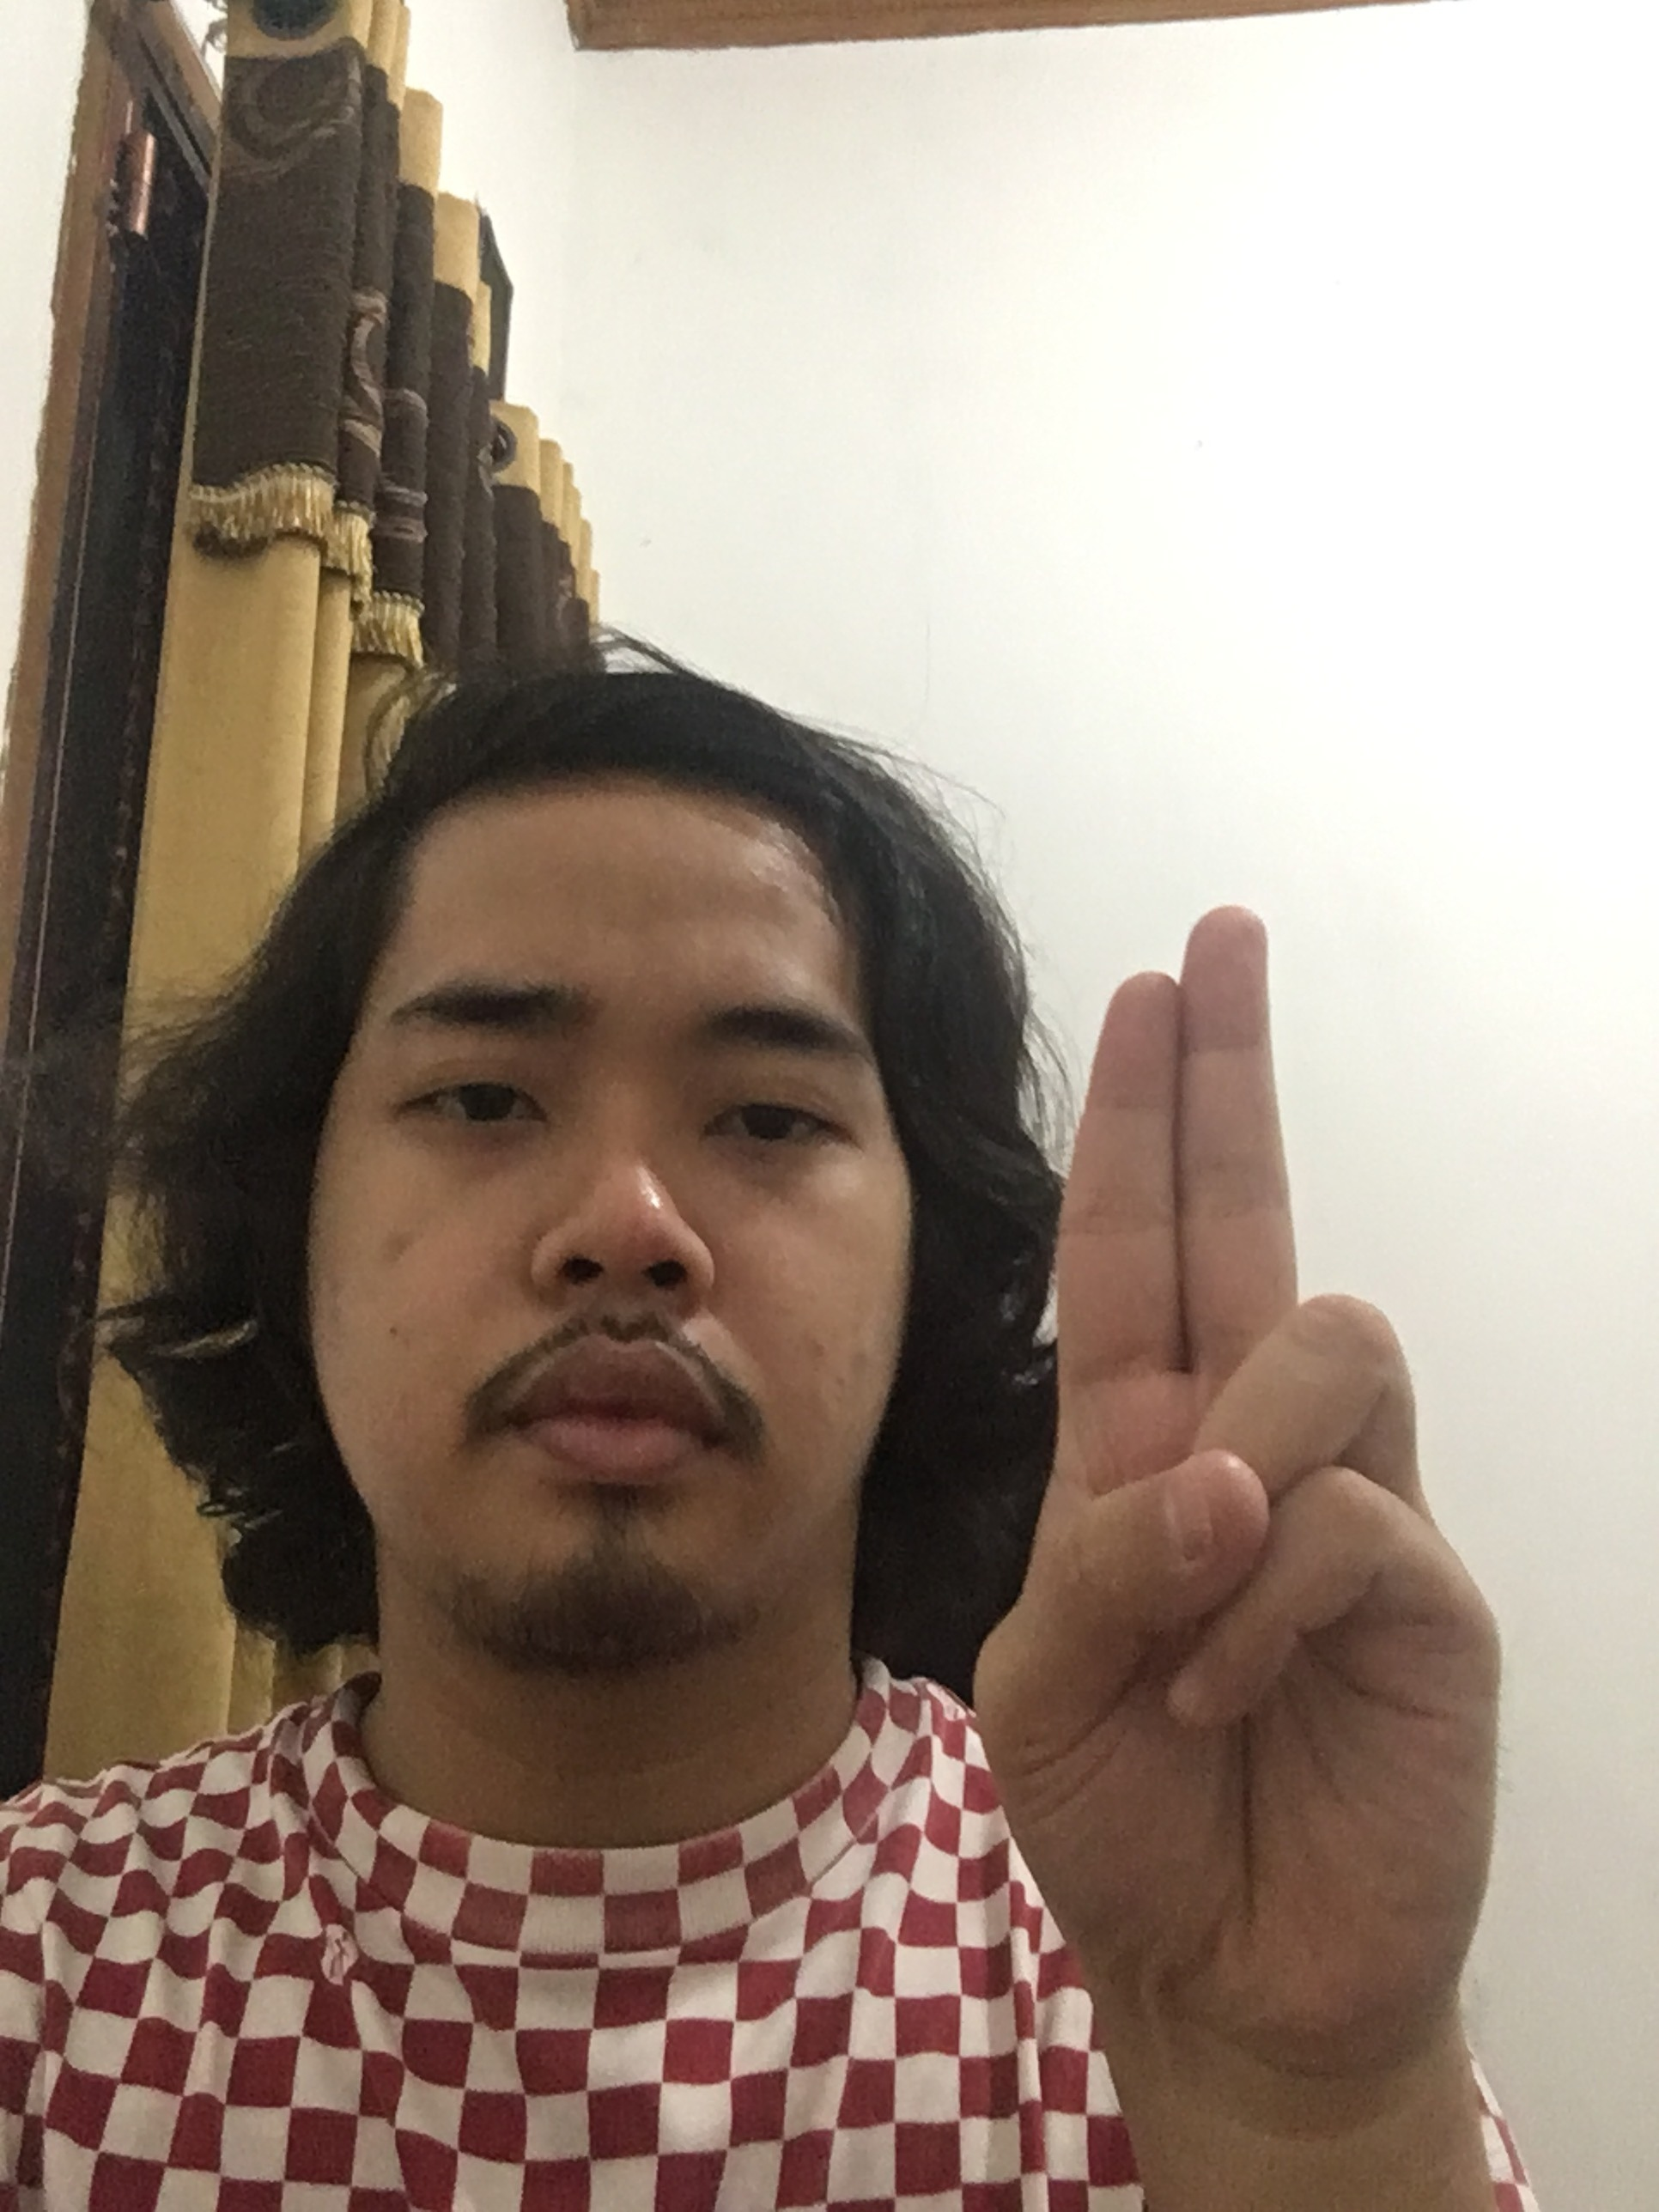U: (958, 859, 1539, 2106)
